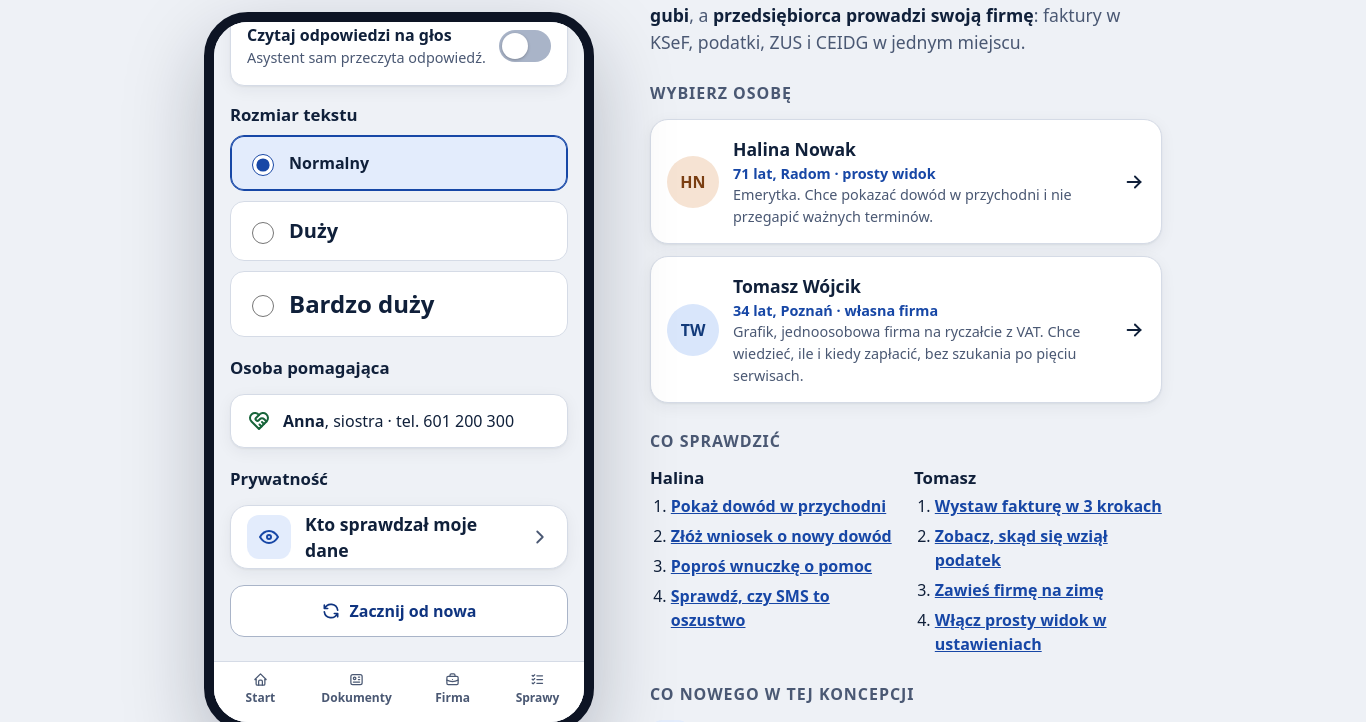
Test: wejście z ustawień
(page scrolled)
Step 1. Click the link "Kto sprawdzał moje dane" → coordinates (399, 537), box left=230, top=505, right=568, bottom=569
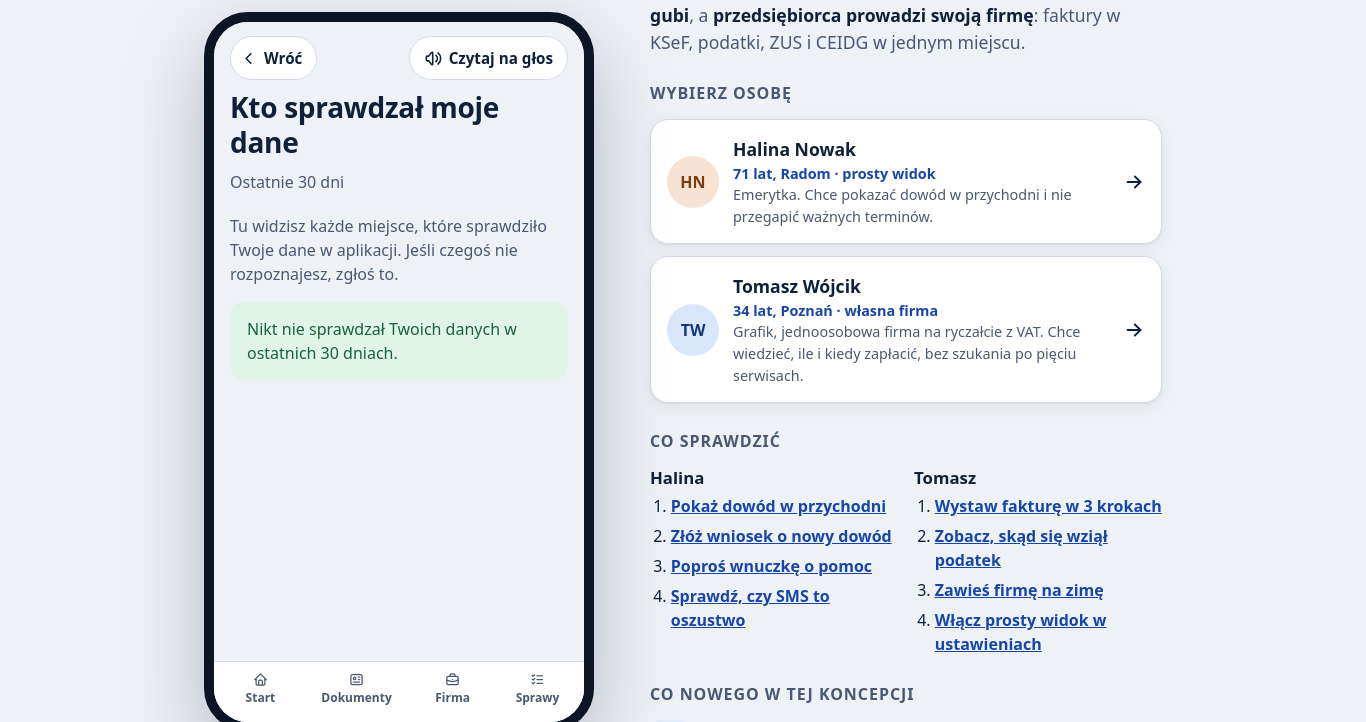
Expected: the text "Nikt nie sprawdzał Twoich danych w ostatnich 30 dniach." is shown, left=230, top=302, right=568, bottom=380
